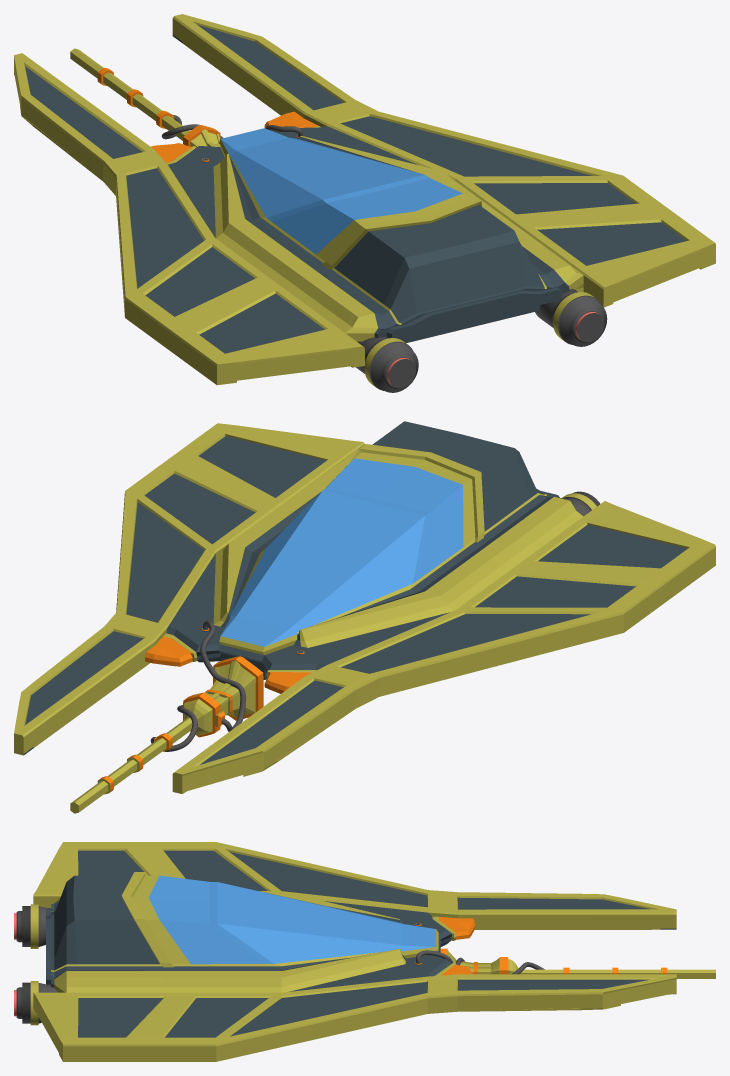
File: SwiftSpace-Model2-MK1Gun_SinglePlayer_Hitbox.fbx
3 renders of one model, top to bottom at view 1: azimuth 30°, elevation 25°; view 2: azimuth 150°, elevation 25°; view 3: azimuth 270°, elevation 25°, orthographic. The views are drawn at different scales.
Visible parts, largest first — view 1: Ship-Mk1, Cylinder, Gun_Single; view 2: Ship-Mk1, Gun_Single; view 3: Ship-Mk1, Gun_Single, Cylinder.
Part boxes in pixels (left/top/right/bottom): Ship-Mk1: left=14, top=14, right=715, bottom=385; Cylinder: left=356, top=289, right=607, bottom=392; Gun_Single: left=70, top=48, right=303, bottom=147; Ship-Mk1: left=14, top=421, right=715, bottom=793; Gun_Single: left=70, top=620, right=263, bottom=813; Ship-Mk1: left=33, top=842, right=676, bottom=1061; Gun_Single: left=416, top=948, right=715, bottom=978; Cylinder: left=14, top=904, right=57, bottom=1025.
Size of what is drawn, in the model's own units: 203 by 48.57 by 296.
